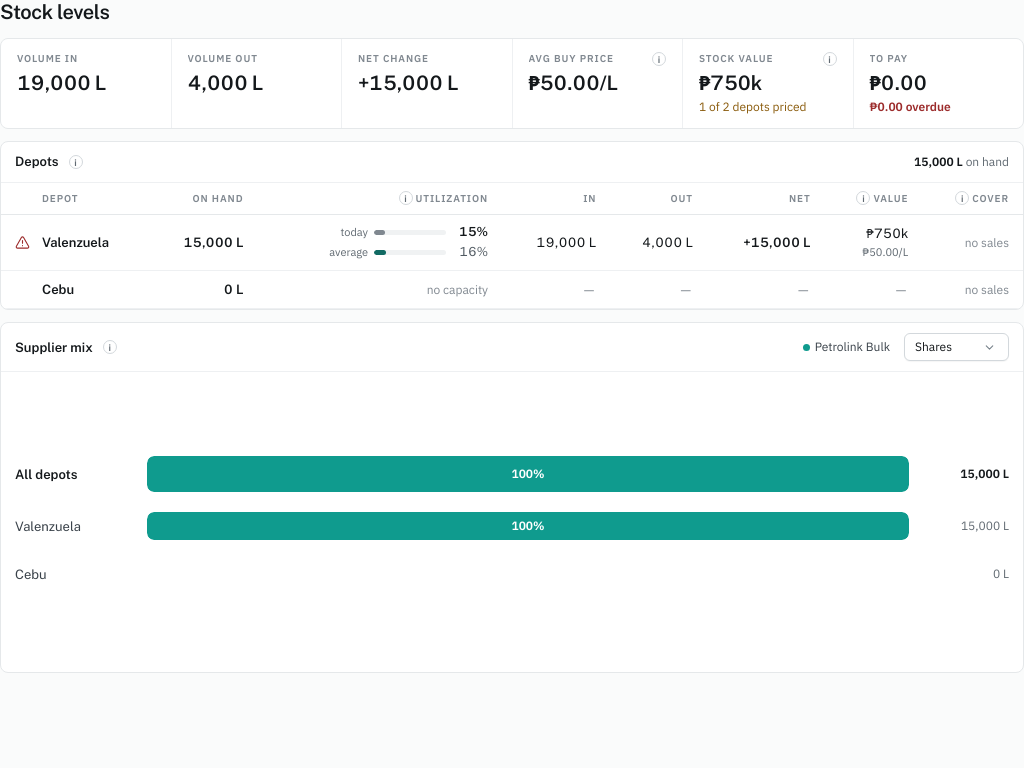
Test: Stock page › reads the sources as of an earlier day
Click the text "Valenzuela".
click(512, 242)  # box [1,214,1023,270]
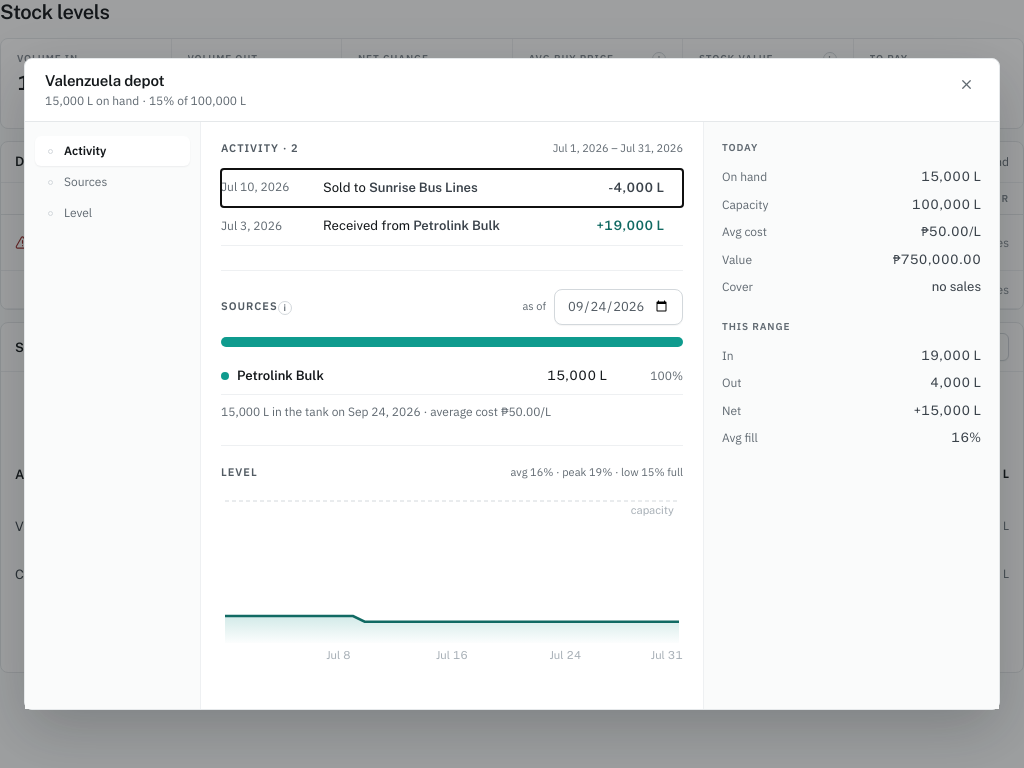
Type "2026-07-01" into the date field named "Sources as of".
click(618, 307); type("2026-07-01")  # box [554,289,683,325]
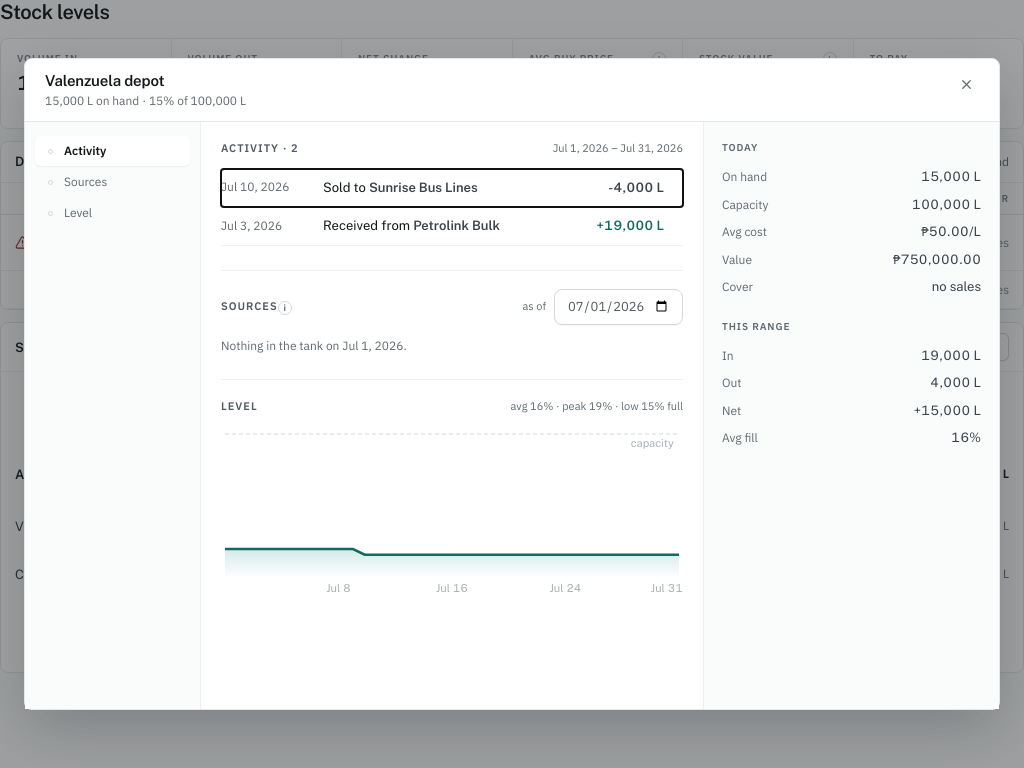
Check: the text "Nothing in the tank on Jul 1, 2026." is shown, box [221,338,407,353]
